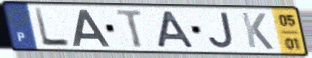A: (71, 8, 113, 48), (156, 10, 197, 49)
J: (207, 11, 236, 50)
K: (239, 11, 276, 51)
L: (32, 6, 73, 48)
T: (114, 9, 146, 50)
